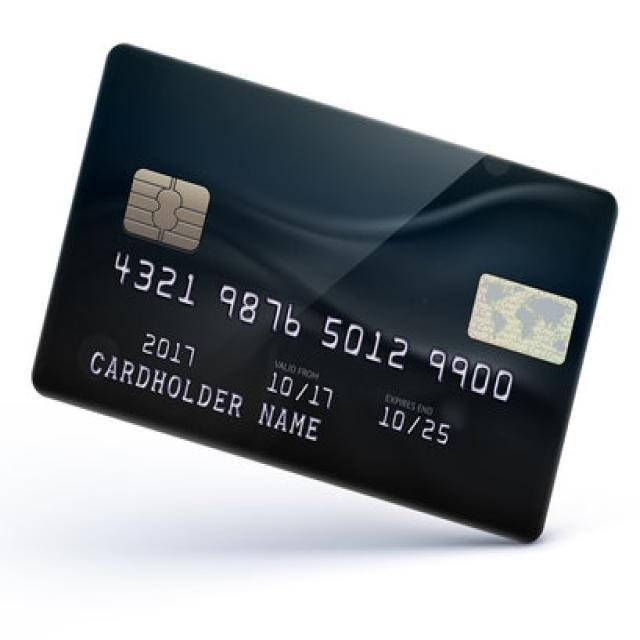payment_card: (30, 41, 619, 544)
